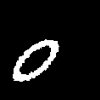chain: (13, 40, 58, 80)
